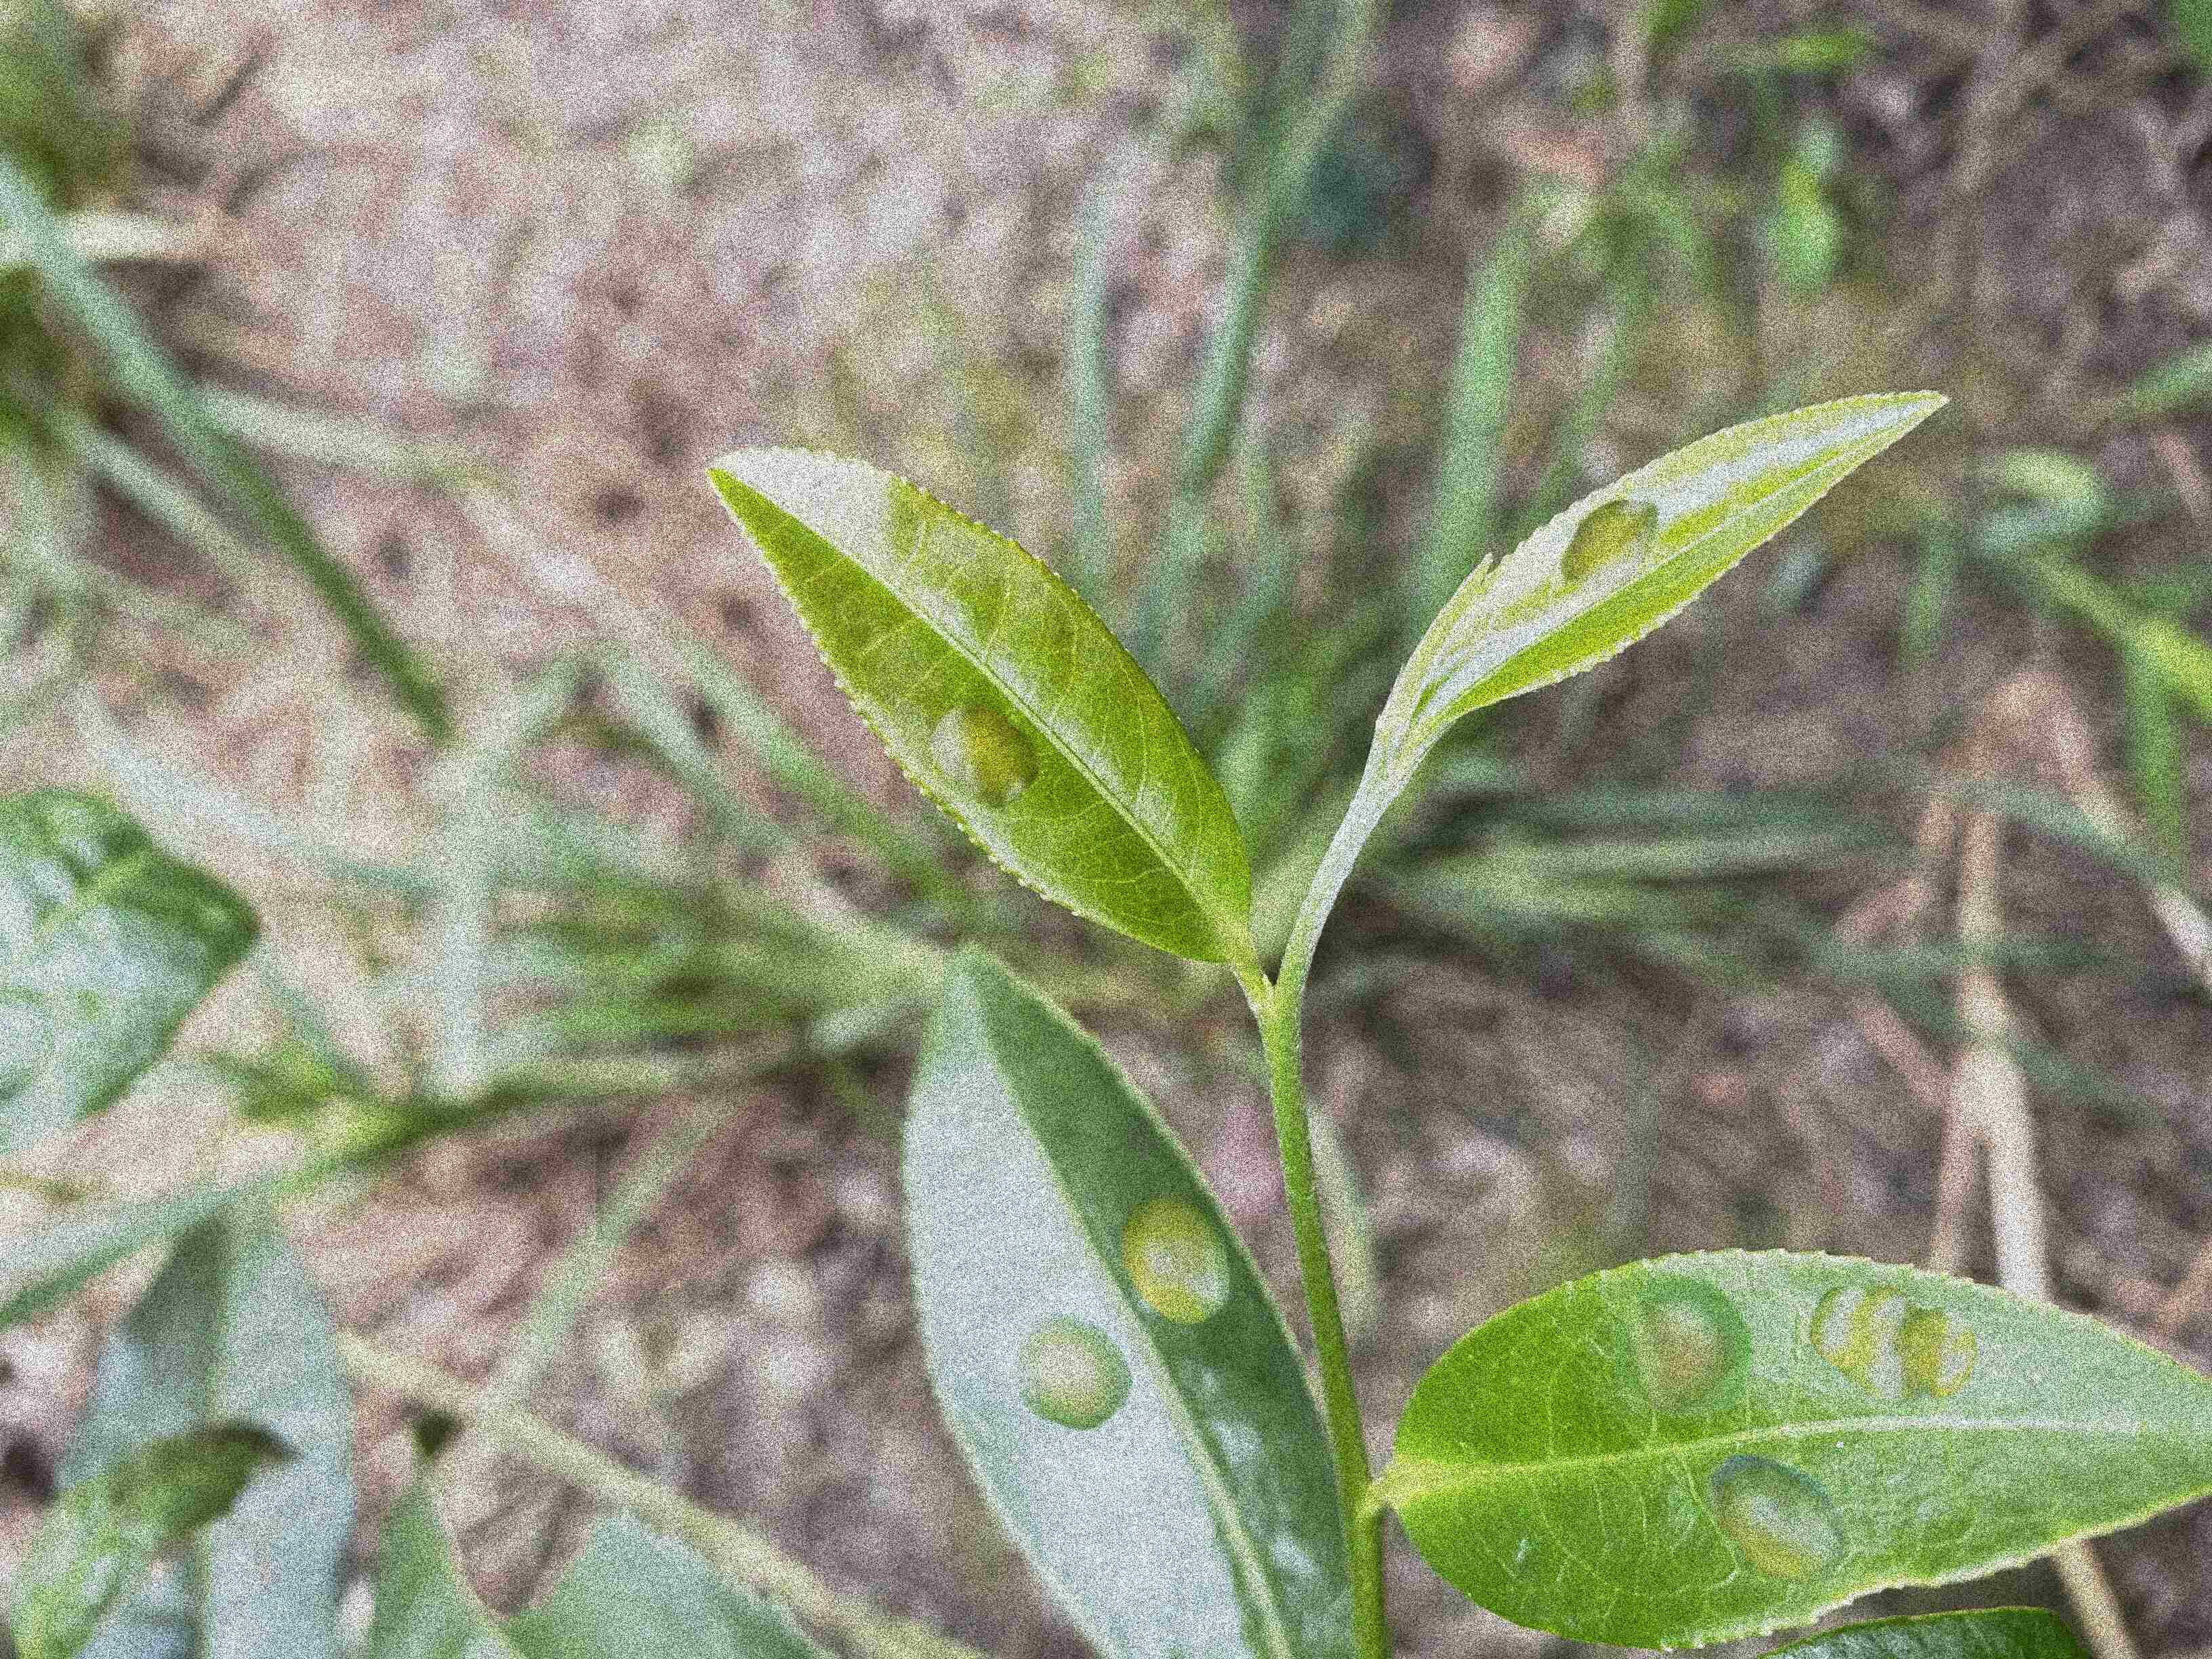chabing_high: (1381, 1244, 2209, 1652), (894, 939, 1348, 1657)
chabing_low: (711, 443, 1256, 962), (1416, 392, 1949, 735)
